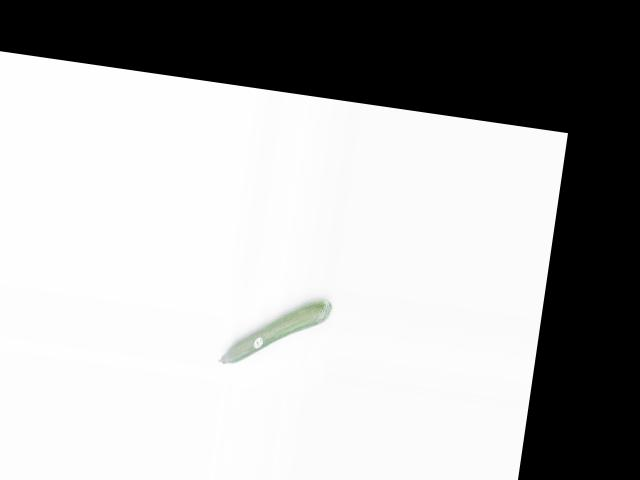cucumber: (217, 286, 332, 377)
